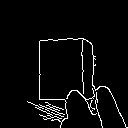cube: (26, 36, 102, 106)
